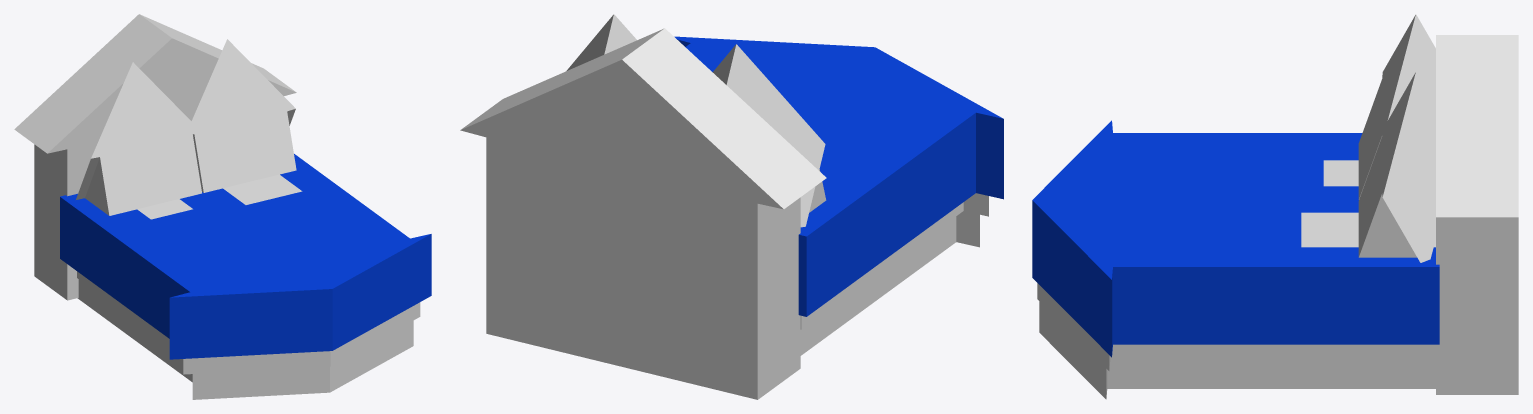
File: Bed.fbx
The picture shows the model from 3 angles, left to right: view 1: azimuth 30°, elevation 25°; view 2: azimuth 150°, elevation 25°; view 3: azimuth 270°, elevation 25°; orthographic projection. The views are drawn at different scales.
Visible parts, largest first — view 1: Cube.202, Cube.203, Cube.204; view 2: Cube.202, Cube.203, Cube.204; view 3: Cube.202, Cube.204, Cube.203.
Part boxes in pixels (box(x1,y1,x2,y2)): Cube.202: box(14, 14, 431, 399); Cube.203: box(76, 62, 201, 215); Cube.204: box(185, 39, 296, 192); Cube.202: box(460, 28, 1003, 399); Cube.203: box(712, 44, 826, 227); Cube.204: box(566, 14, 636, 70); Cube.202: box(1032, 35, 1518, 399); Cube.204: box(1358, 72, 1435, 360); Cube.203: box(1358, 14, 1435, 199).
Bounding box in the file's own units: 493 × 428 × 633.
